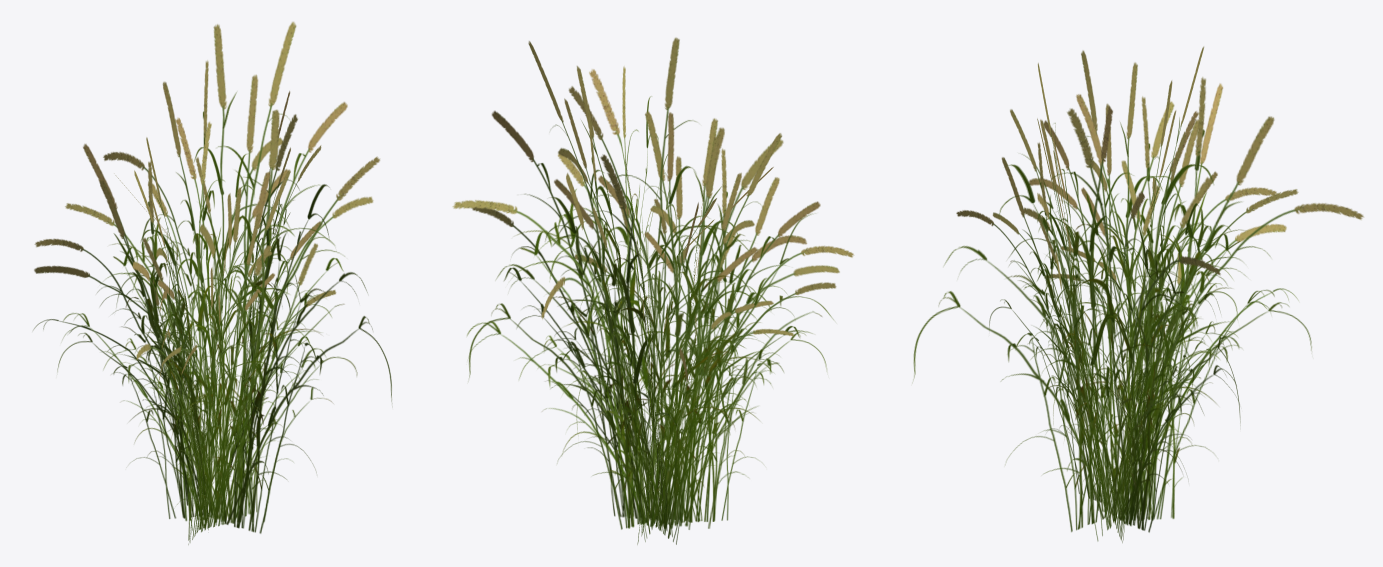
The model's file is grass_tall.gltf.
3 views of the same model, side by side, from view 1: azimuth 30°, elevation 25°; view 2: azimuth 150°, elevation 25°; view 3: azimuth 270°, elevation 25° (orthographic). The views are drawn at different scales.
Visible parts, largest first — view 1: Grass tall high; view 2: Grass tall high; view 3: Grass tall high.
Part boxes in pixels (left/top/right/bottom): Grass tall high: left=33, top=21, right=391, bottom=544; Grass tall high: left=452, top=37, right=854, bottom=544; Grass tall high: left=913, top=46, right=1363, bottom=542.
Bounding box in the file's own units: 0.689 × 0.996 × 0.8336.
1 material, 1 textured.
